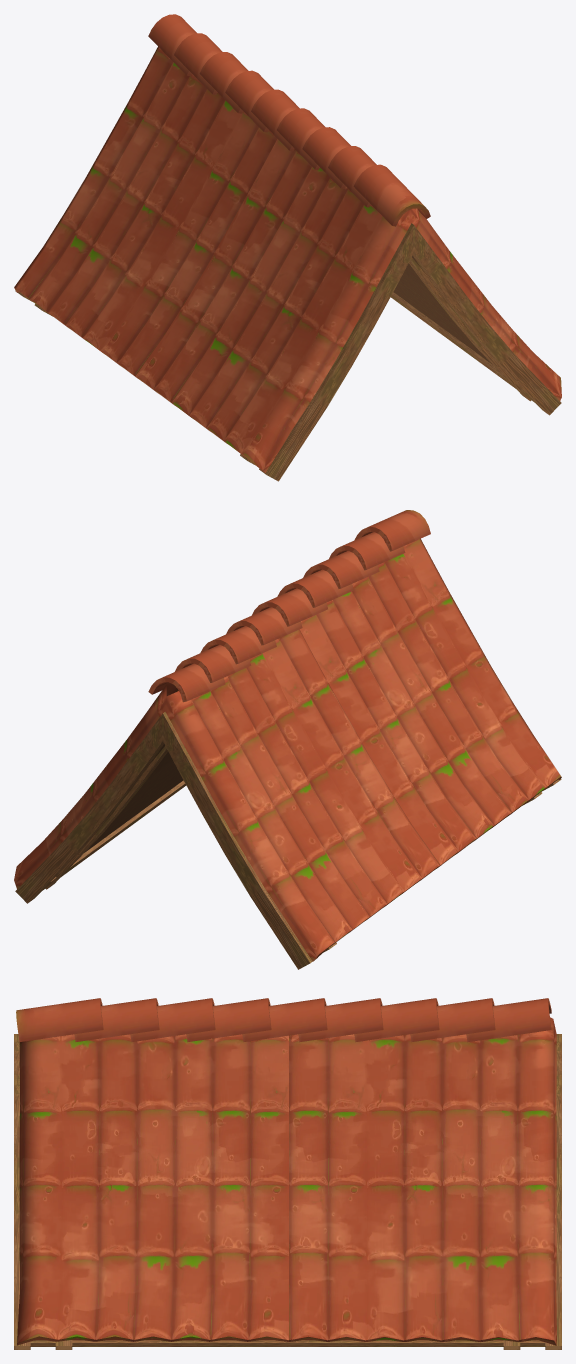
File: Roof_RoundTiles_4x6.glb
The picture shows the model from 3 angles, top to bottom: view 1: azimuth 30°, elevation 25°; view 2: azimuth 150°, elevation 25°; view 3: azimuth 270°, elevation 25°; orthographic projection. The views are drawn at different scales.
Parts seen in each view (by area): view 1: Roof_RoundTiles_4x6; view 2: Roof_RoundTiles_4x6; view 3: Roof_RoundTiles_4x6.
Boxes of the visible parts, x1,y1,x2,y2 form: Roof_RoundTiles_4x6: [14, 14, 561, 481]; Roof_RoundTiles_4x6: [14, 510, 561, 969]; Roof_RoundTiles_4x6: [14, 998, 561, 1349].
Bounding box in the file's own units: 5.51 × 4.23 × 7.57.
Materials: 2 (2 with a texture image).
